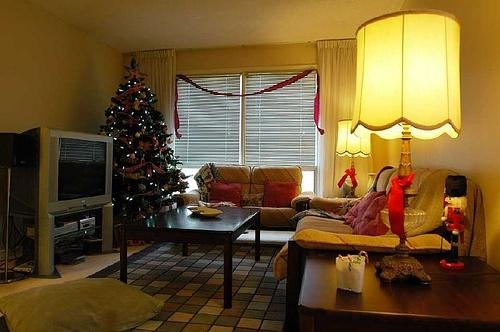sofa: (271, 165, 481, 283), (171, 164, 313, 230)
tvmonitor: (16, 127, 119, 216)
